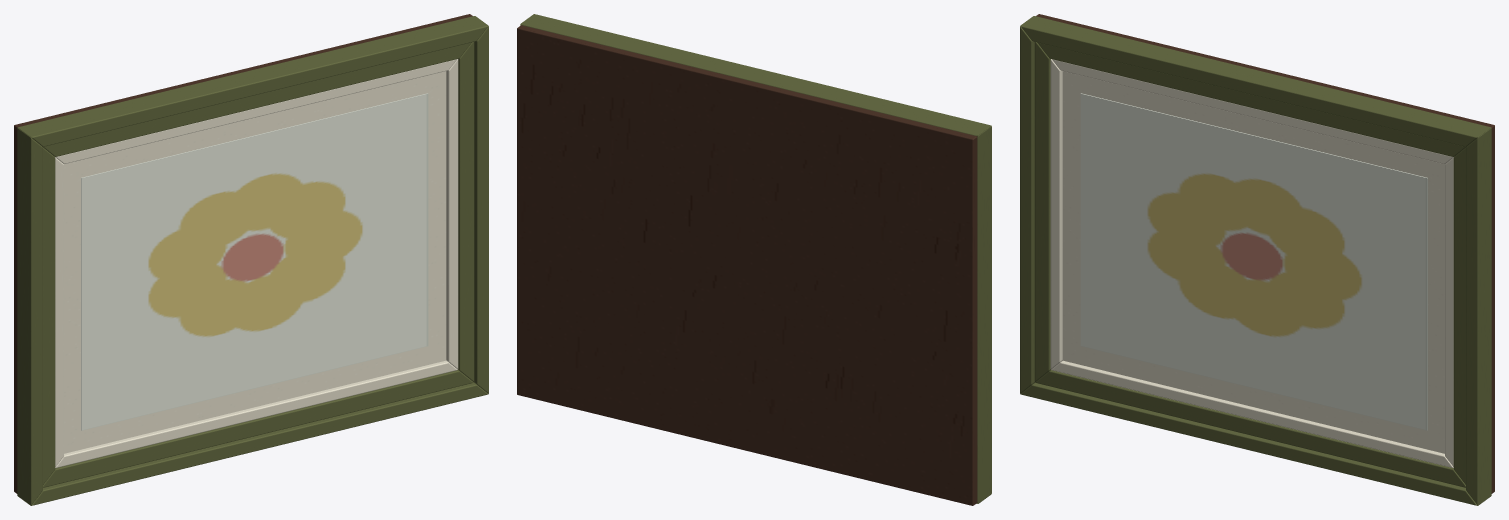
The model's file is LAY03_UpperFrame_3.fbx.
The picture shows the model from 3 angles, left to right: view 1: azimuth 30°, elevation 25°; view 2: azimuth 150°, elevation 25°; view 3: azimuth 330°, elevation 25°; orthographic projection.
Visible parts, largest first — view 1: LAY03_UpperFrame_3; view 2: LAY03_UpperFrame_3; view 3: LAY03_UpperFrame_3.
Part boxes in pixels (x1,y1,x2,y2): LAY03_UpperFrame_3: (14,14,488,505); LAY03_UpperFrame_3: (517,14,991,505); LAY03_UpperFrame_3: (1020,14,1494,505).
Size of the model in its own units: 0.52 by 0.4 by 0.036.
2 materials, 2 textured.
